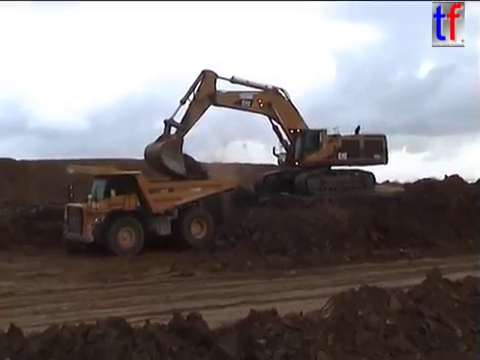excavator: (141, 67, 390, 199)
truck: (55, 162, 239, 258)
